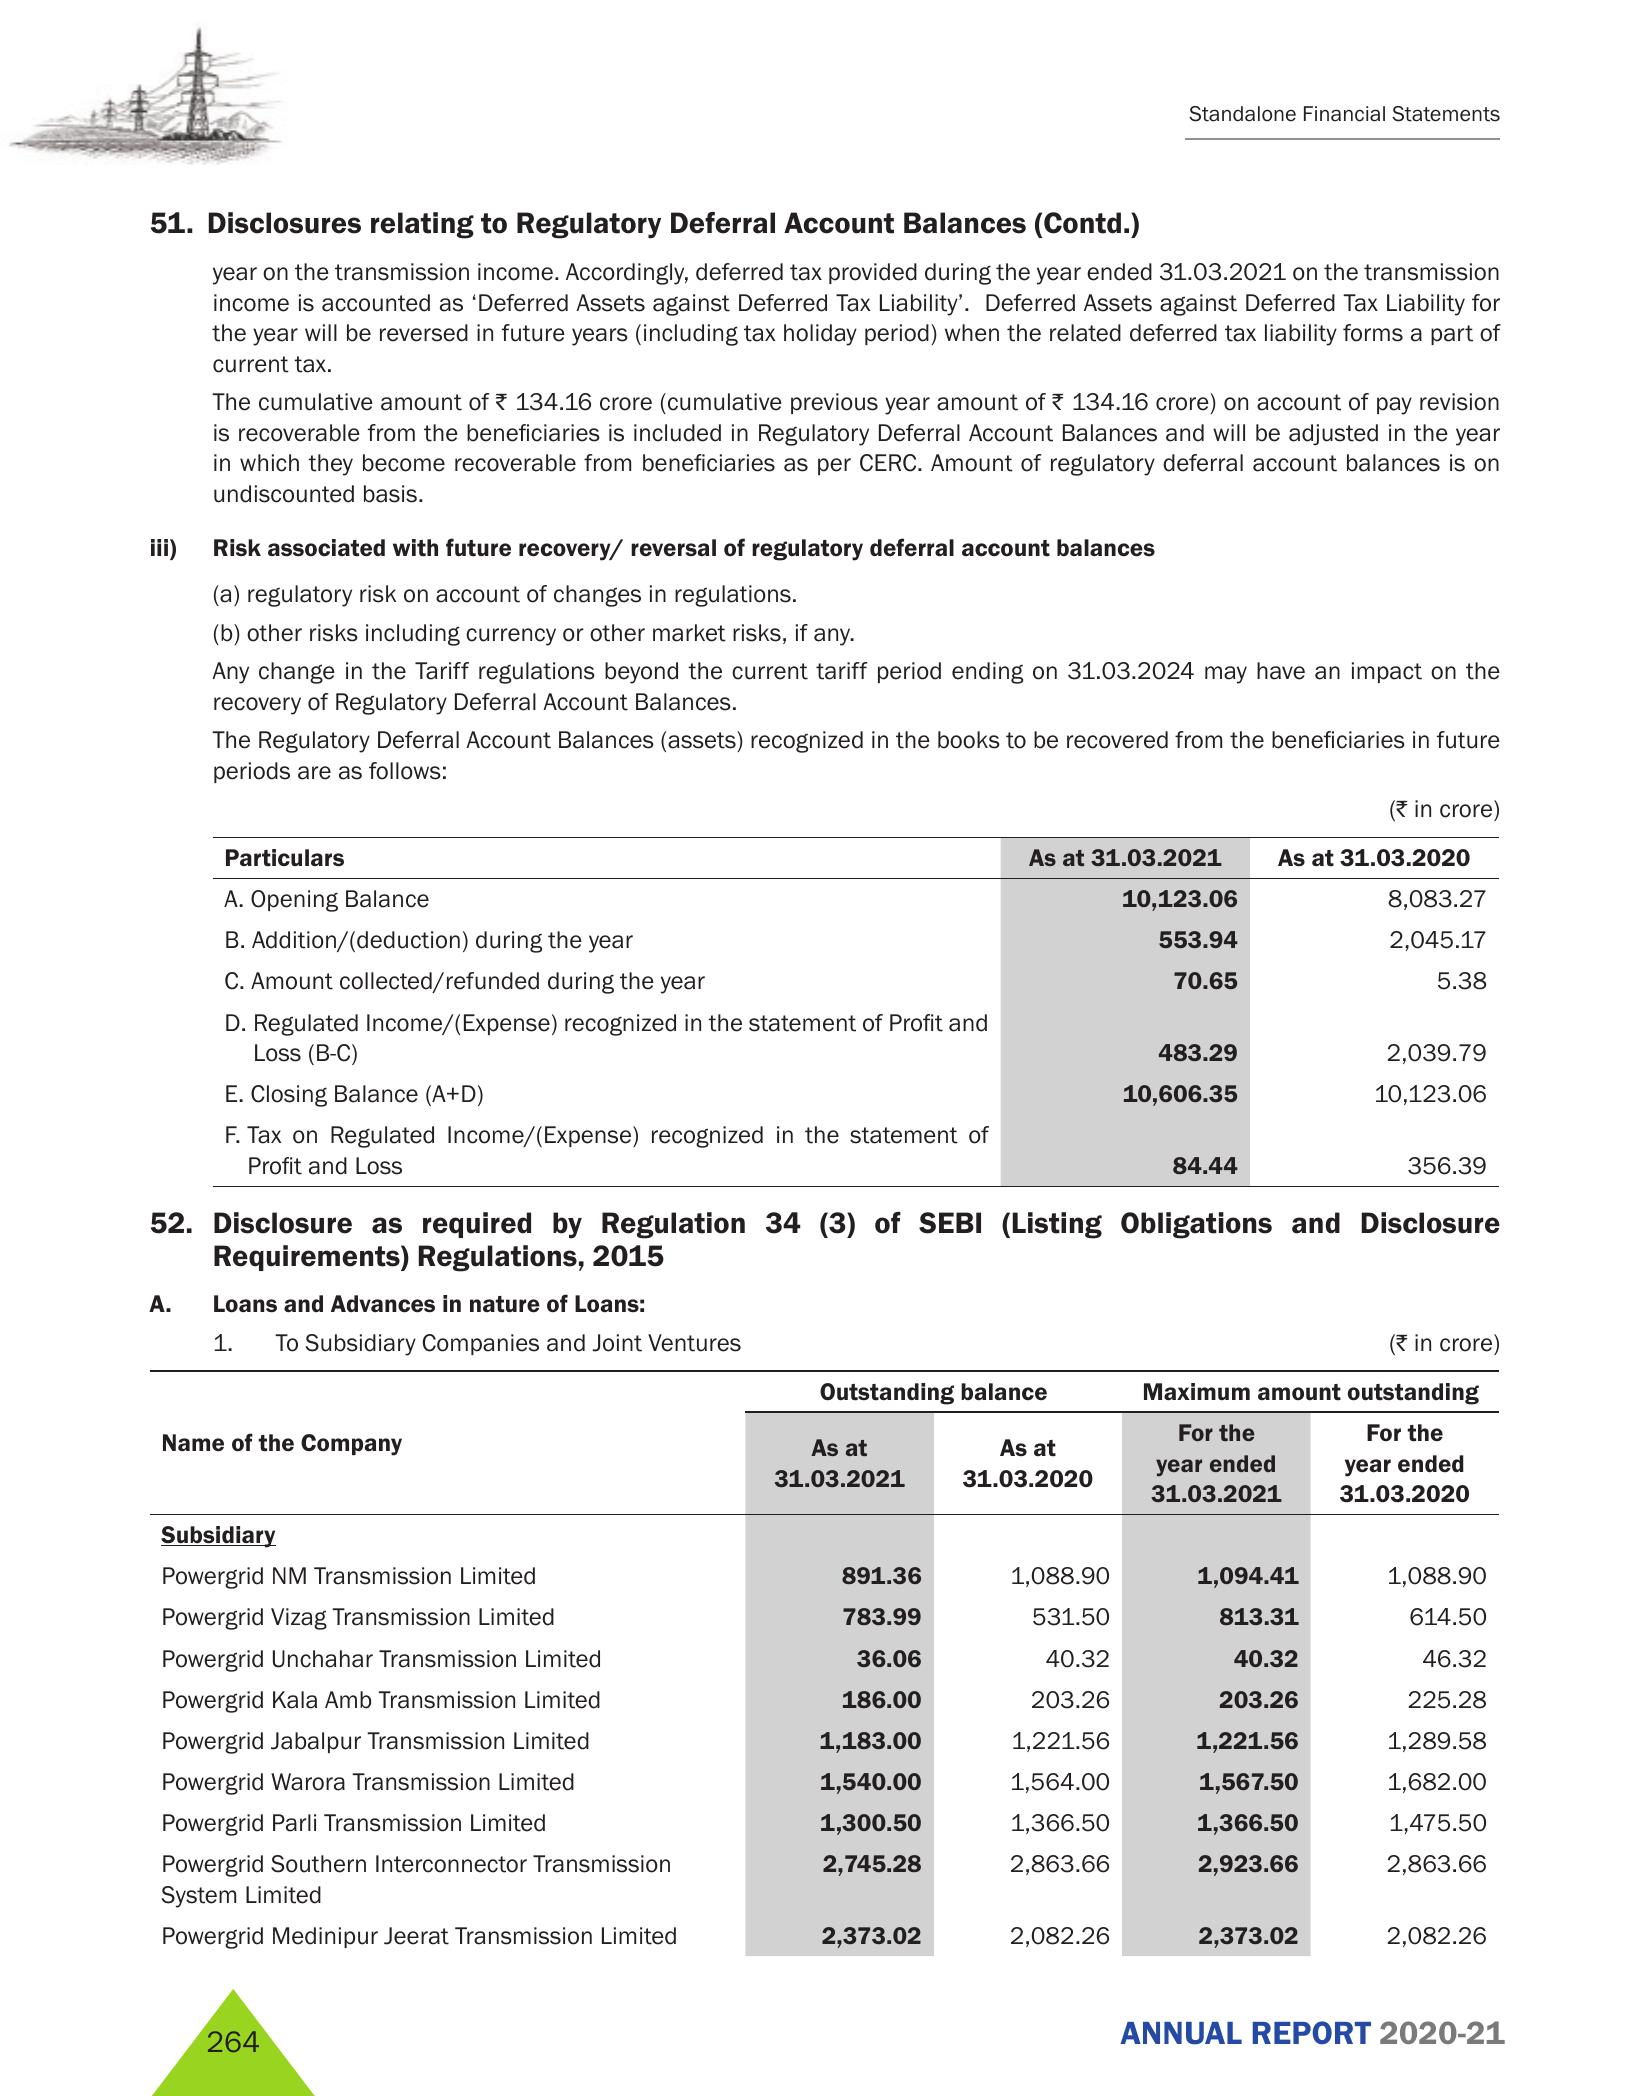Footer: (0, 1968, 1650, 2096)
Header: (0, 0, 1650, 175)
Table: (117, 1370, 1504, 1962), (184, 834, 1511, 1181)
